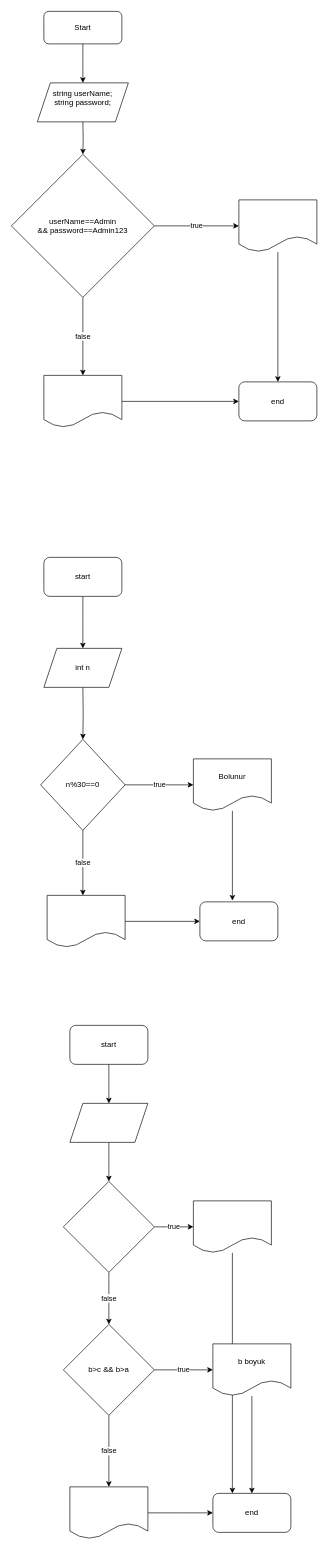
Image size: 328x1550. Some labels were removed from this diagram. The centre of each missing label's shape, as x and y in pixels:
"a boyuk" belongs at pixel 232 1226.
"a>b && a>c" belongs at pixel 108 1226.
"bolunmur" belongs at pixel 85 921.
"c boyuk" belongs at pixel 108 1512.
"int a,b,c;" belongs at pixel 108 1122.
"UserName ve ya password yanlishdir" belongs at pixel 82 401.
"Xosh gelmishiniz!" belongs at pixel 277 225.
